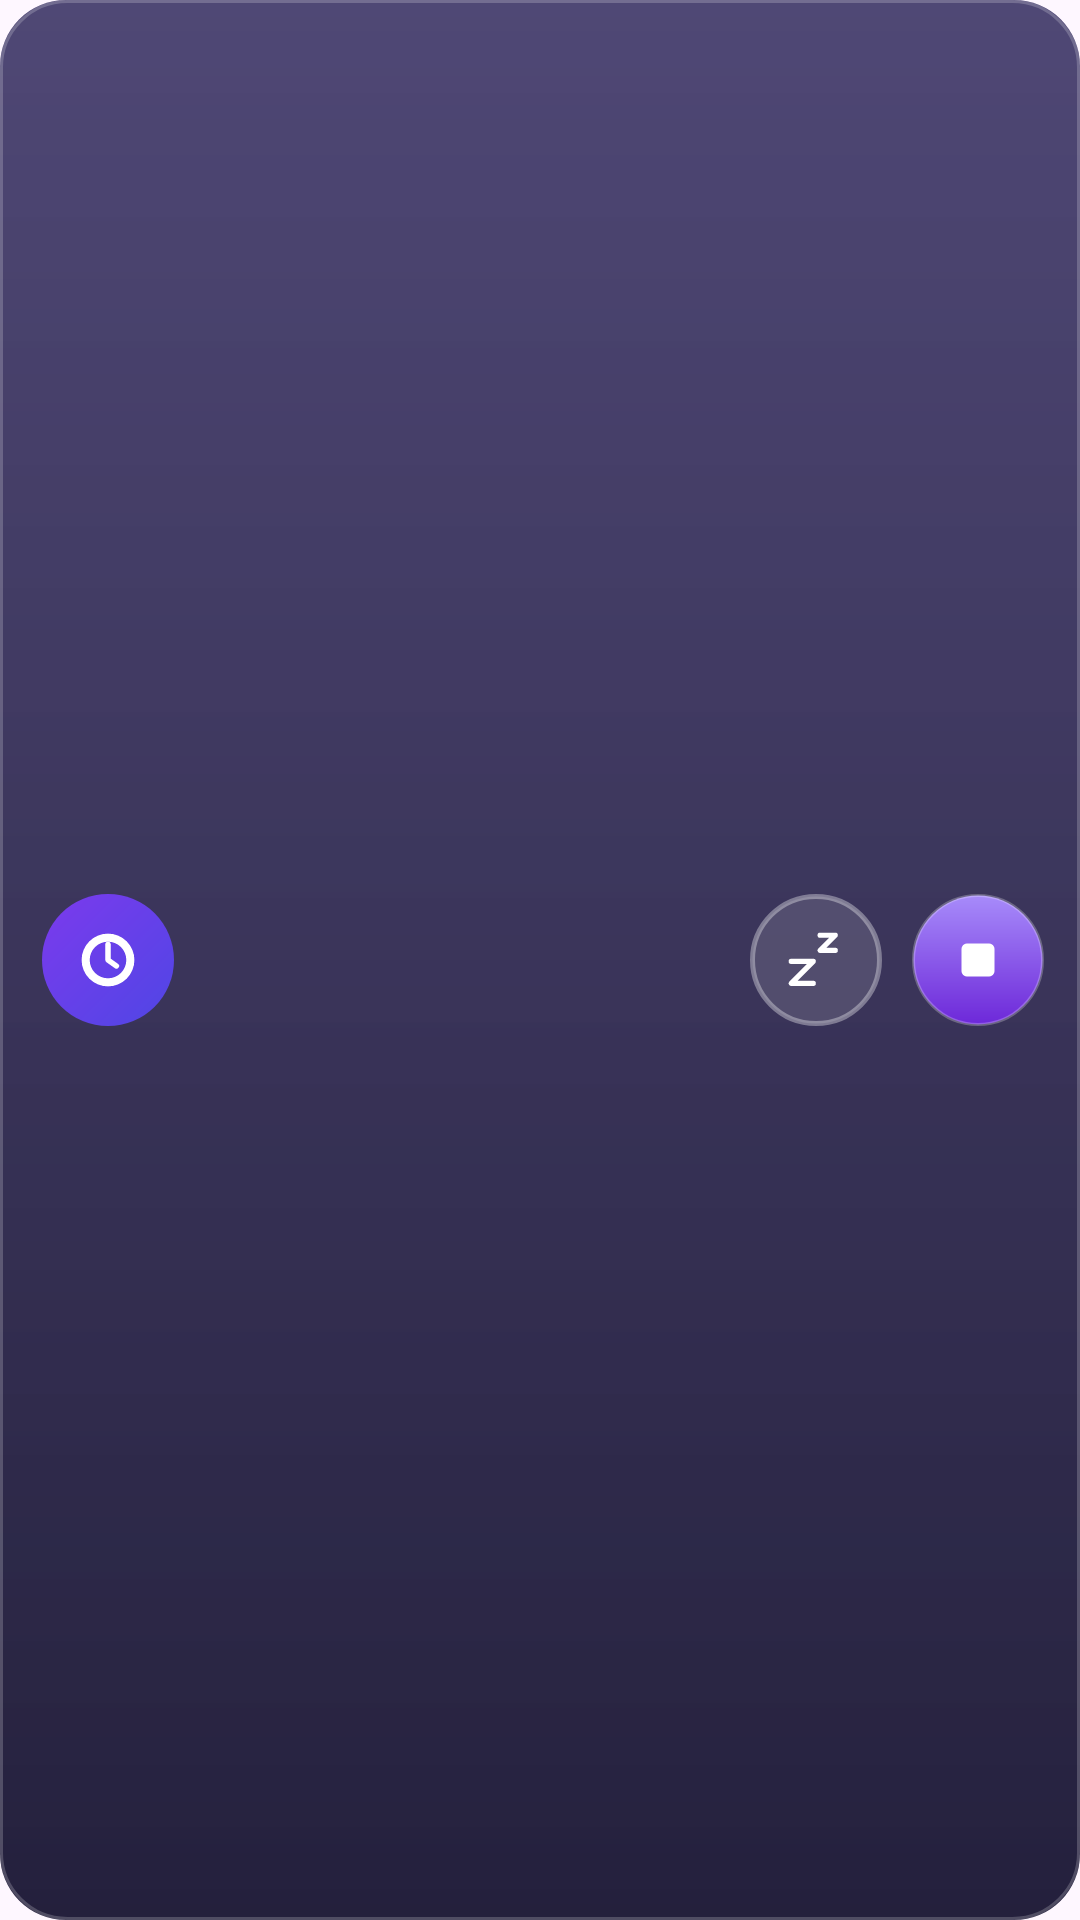

Icons on this 1080px×1920px Android screen, each with the point to tap as (x=x, y=y):
float alarm: (x=108, y=960)
停止: (x=978, y=960)
稍后提醒: (x=816, y=960)
